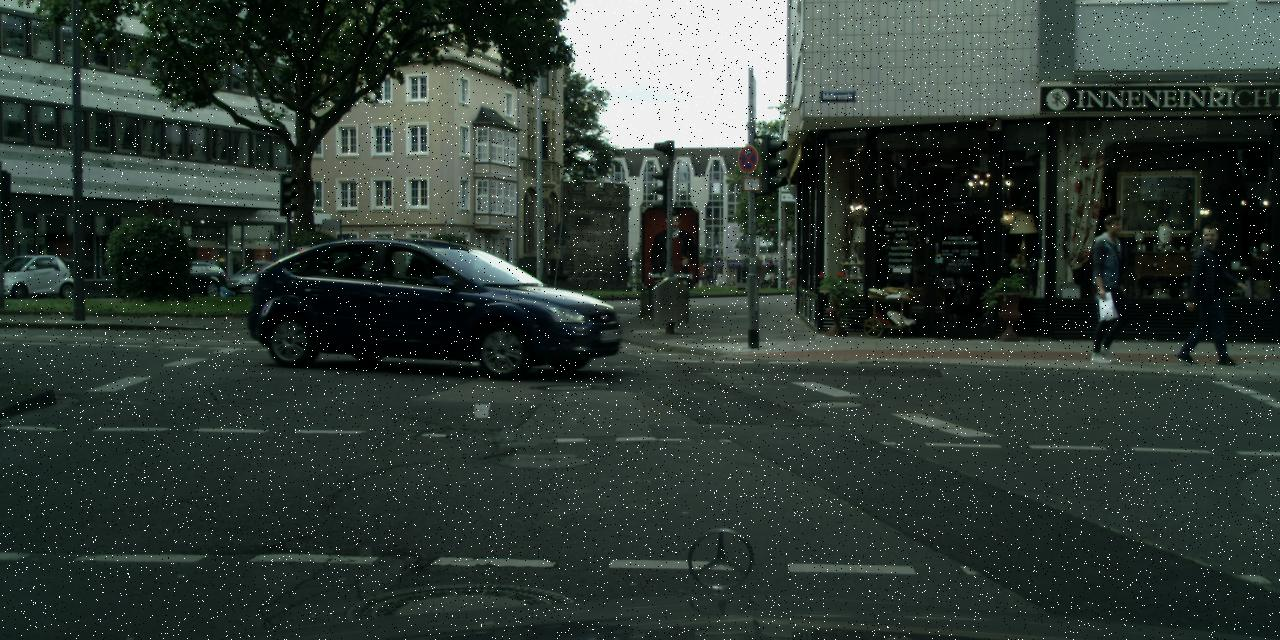ped: (1078, 213, 1138, 361), (1180, 224, 1238, 364)
